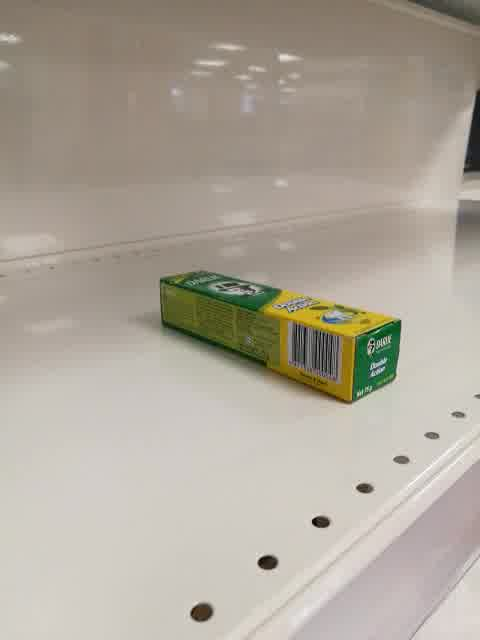toothpaste: (158, 270, 402, 405)
